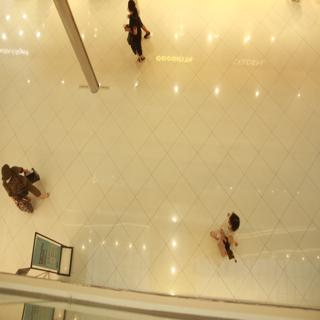person: (2, 157, 56, 216), (110, 1, 155, 69), (209, 200, 251, 265)
